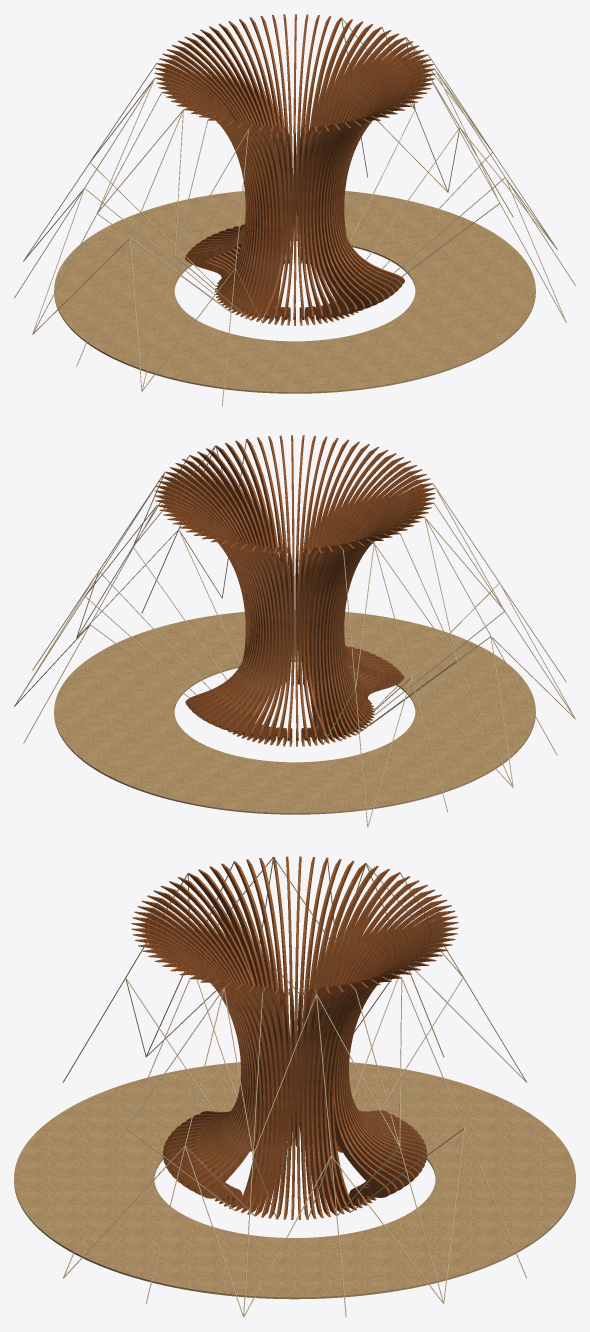
File: asset.glb
3 renders of one model, top to bottom at view 1: azimuth 30°, elevation 25°; view 2: azimuth 150°, elevation 25°; view 3: azimuth 270°, elevation 25°, orthographic. The views are drawn at different scales.
Visible parts, largest first — view 1: root; view 2: root; view 3: root.
Boxes of the visible parts, x1=… form: root: x1=14, y1=14, x2=575, y2=406; root: x1=14, y1=435, x2=575, y2=827; root: x1=14, y1=856, x2=575, y2=1317.
Bounding box in the file's own units: 8.44 × 3.67 × 7.31.
Materials: 3 (3 with a texture image).
